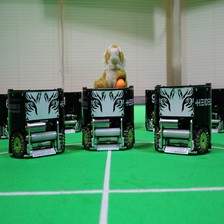ball: (114, 77, 126, 89)
robot: (3, 85, 68, 160), (152, 82, 215, 157), (78, 84, 137, 152), (62, 89, 83, 134), (143, 87, 157, 134), (211, 86, 222, 132), (1, 91, 11, 140)
